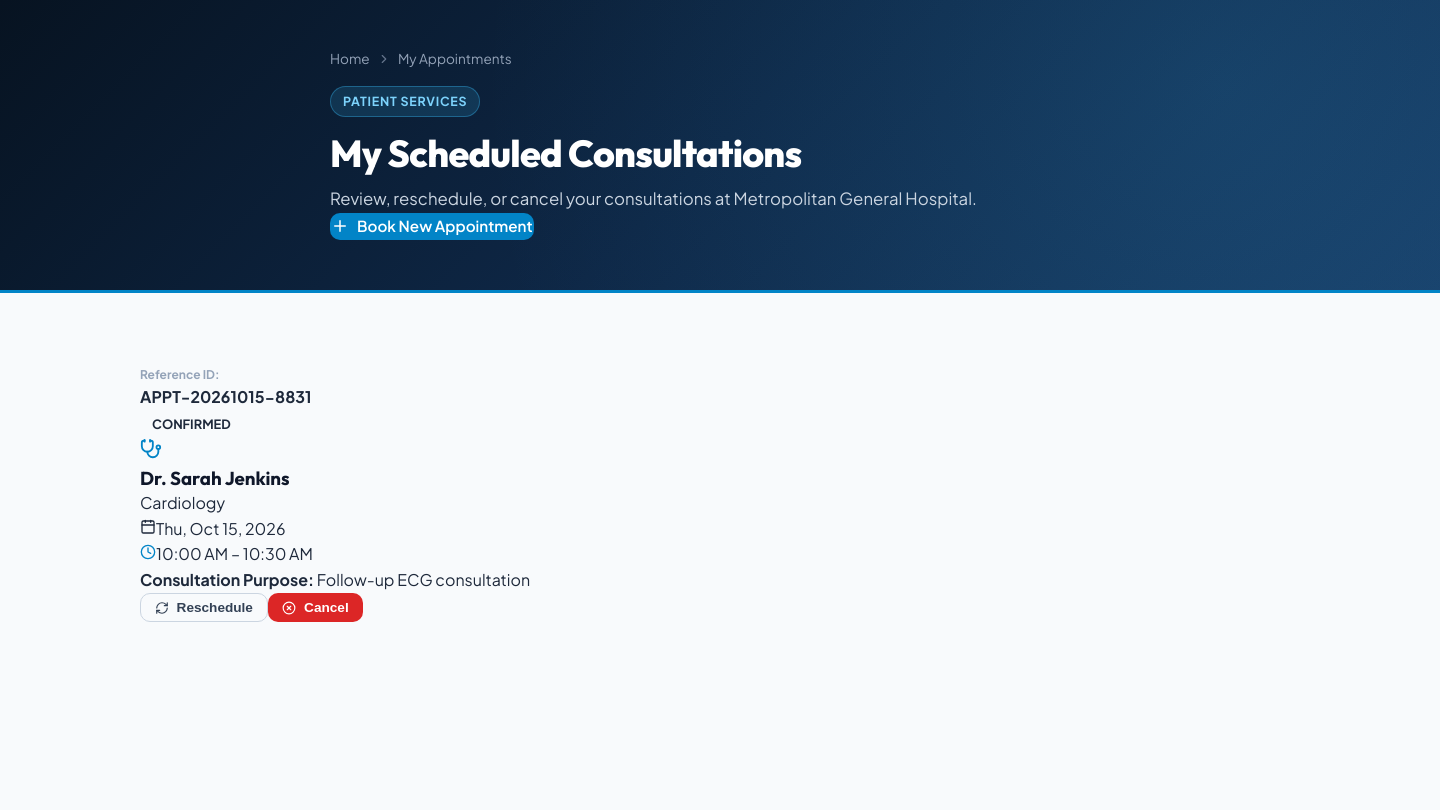
Test: My Appointments Listing & Actions › opens cancellation confirmation modal when clicking cancel button
The width and height of the screenshot is (1440, 810).
What coordinates should you click on to do the following:
click the button "Cancel"
I would click on:
 (315, 608)
Its box is [268,593,363,622].
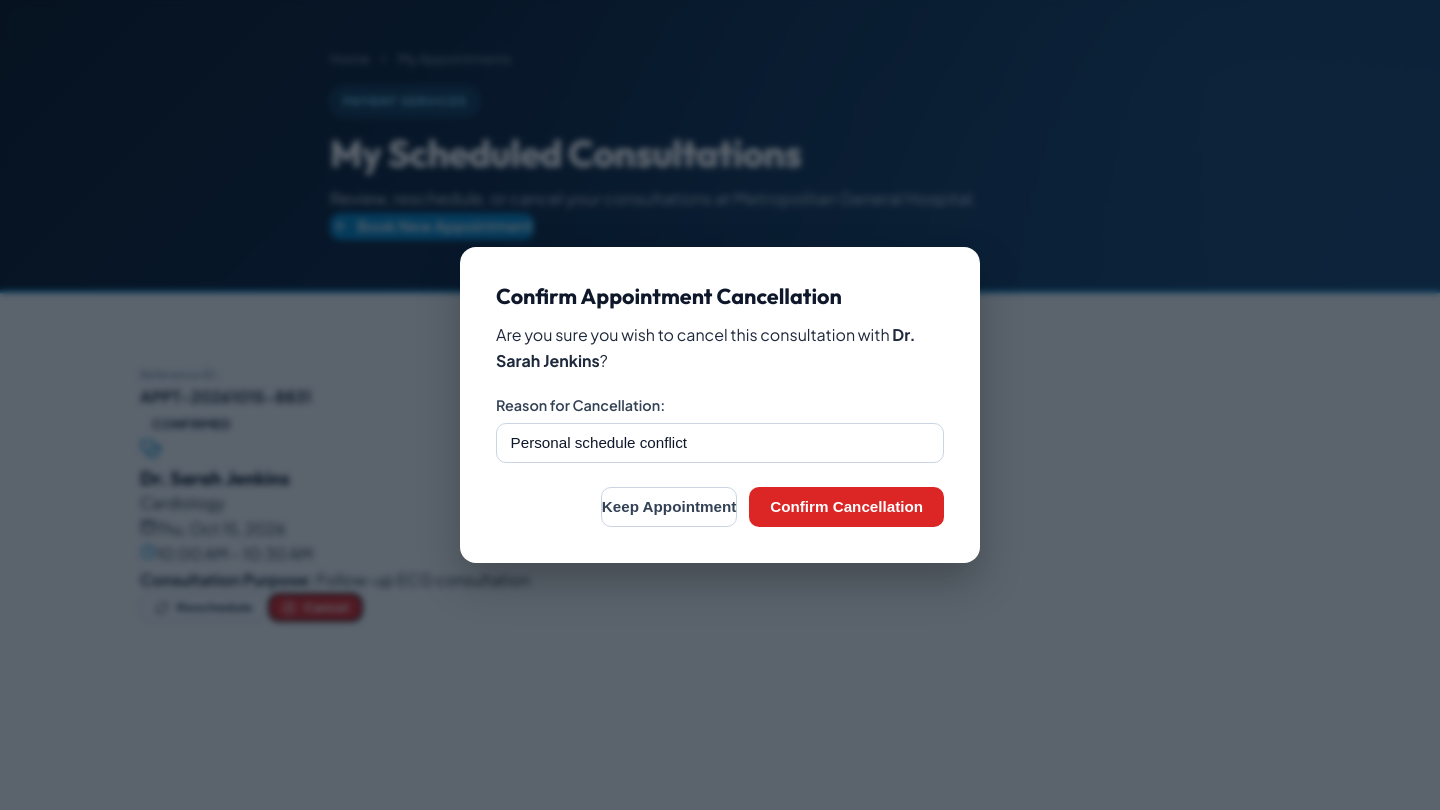
Check: the heading "Confirm Appointment Cancellation" is shown, box [496,282,842,310]
Check: the field with placeholder "e.g. Schedule conflict, feeling better..." is shown, box [496,423,944,463]
Check: the button "Confirm Cancellation" is shown, box [749,487,944,527]
